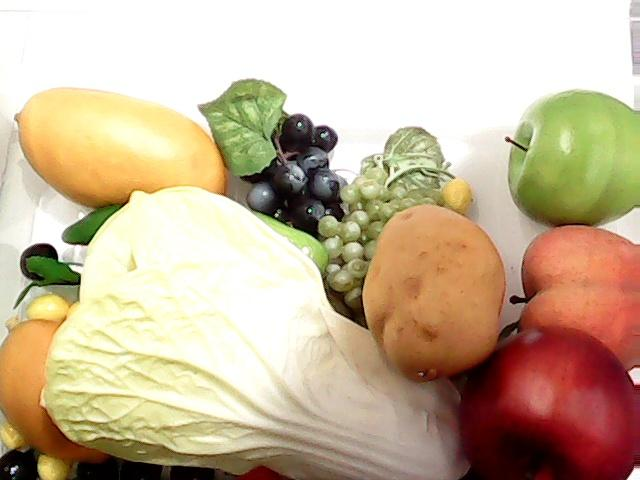apple: (456, 324, 640, 480), (504, 86, 640, 230)
carrot: (224, 455, 282, 480)
grape: (318, 162, 442, 310), (234, 112, 346, 236)
lemon: (0, 316, 126, 468)
mango: (7, 78, 234, 206)
napa cabbage: (35, 190, 489, 478)
peach: (508, 222, 640, 378)
pepper: (56, 183, 332, 283)
potato: (360, 202, 510, 386)
